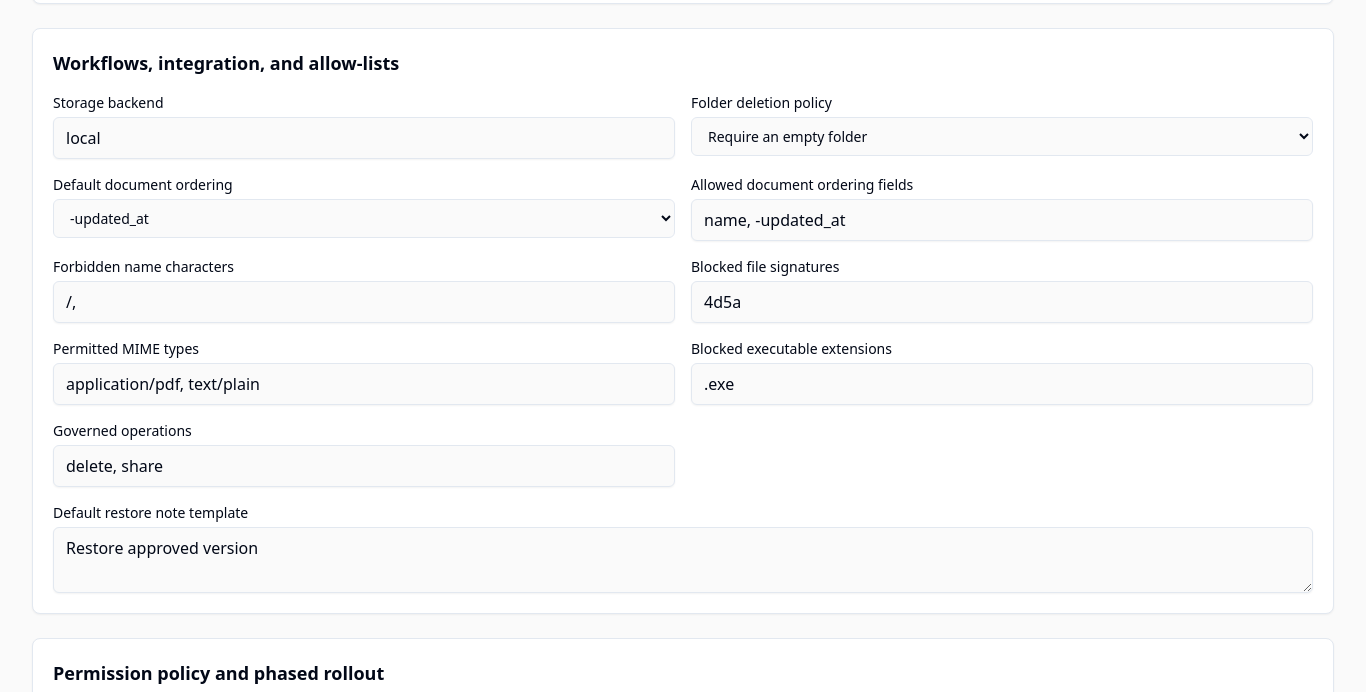
Test case: DmsConfigurationPage › shows empty history/audit and blocks invalid drafts before preview
(page scrolled)
Clear the field labelled "Permitted MIME types" at (364, 384), box [53,363,675,405]
(page scrolled)
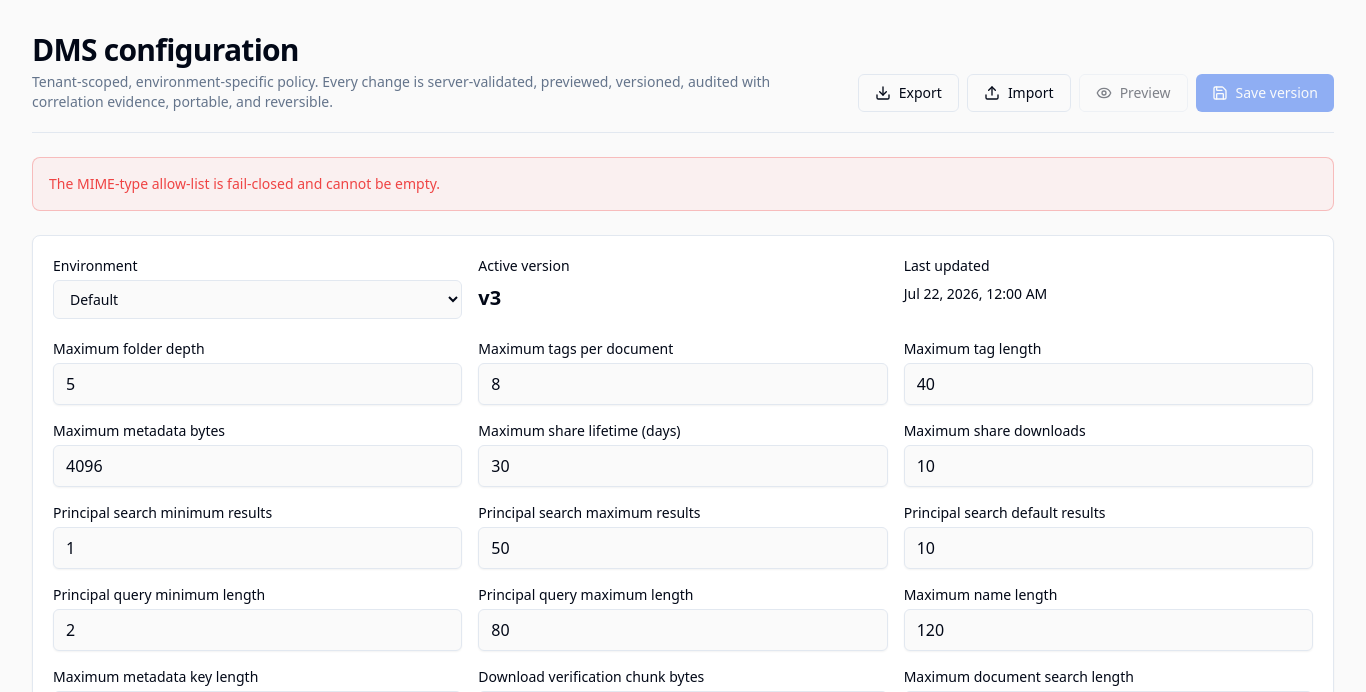
Expected: the button "Save version" is disabled, [1196,74,1334,112]
Expected: the text "The MIME-type allow-list is fail-closed and cannot be empty." is shown, [32,157,1334,211]
Expected: the button "Preview" is disabled, [1079,74,1188,112]
